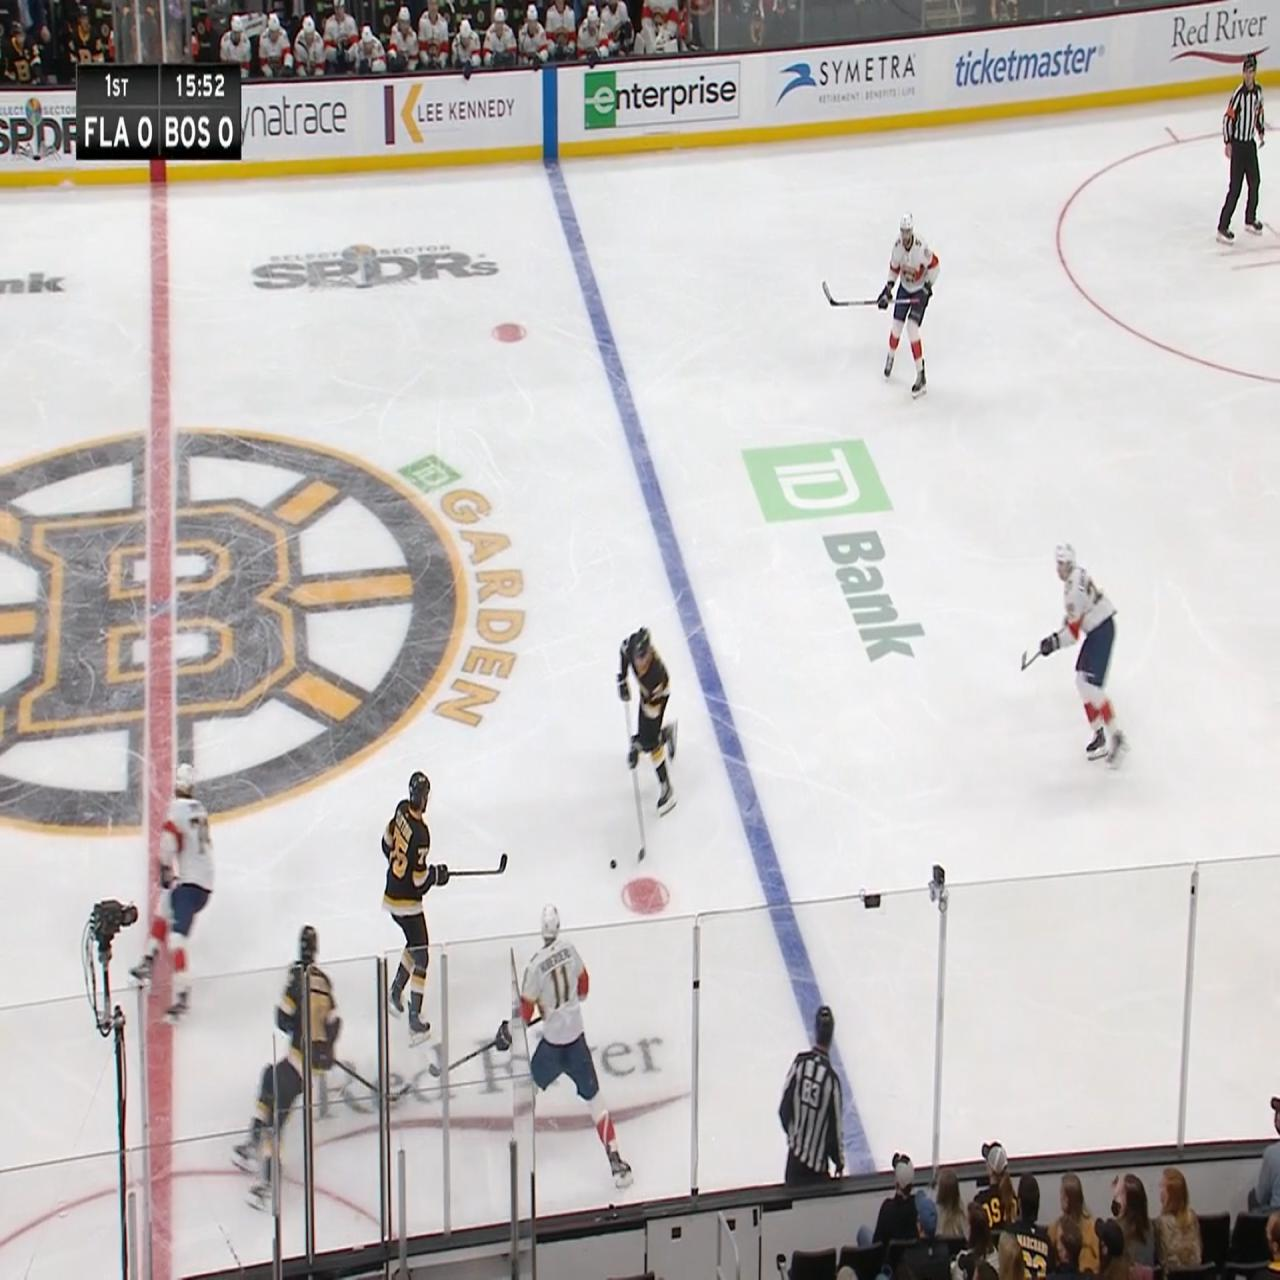Ad: (738, 424, 945, 670), (295, 1027, 693, 1145), (244, 246, 510, 306), (375, 75, 533, 155), (952, 33, 1115, 109), (777, 48, 930, 125), (577, 67, 749, 134), (1165, 4, 1280, 77), (240, 83, 350, 158)
